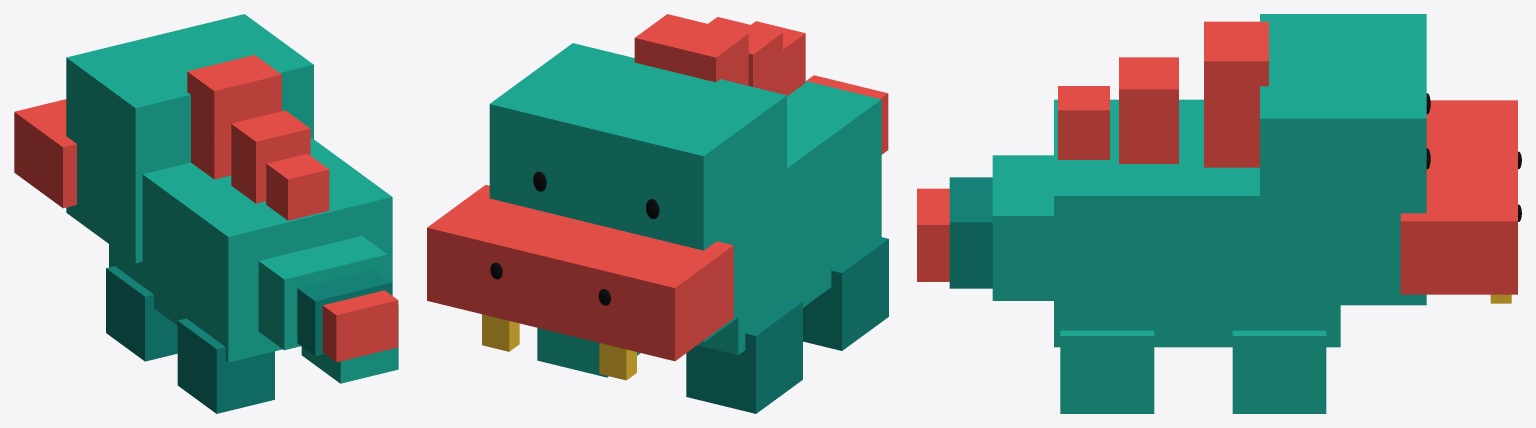
Rendered from Blockosaur_Boss.obj.
The picture shows the model from 3 angles, left to right: view 1: azimuth 30°, elevation 25°; view 2: azimuth 150°, elevation 25°; view 3: azimuth 270°, elevation 25°; orthographic projection. The views are drawn at different scales.
Visible parts, largest first — view 1: LongBody, SquareHead, BackBlockFront, TailRoot, LegRearLeft, BroadSnout, BackBlockMiddle, CoralTailTip, LegFrontLeft, BackBlockRear, TailMiddle, LegRearRight; view 2: SquareHead, BroadSnout, LongBody, LegFrontLeft, LegRearLeft, BackBlockFront, BackBlockMiddle, LegFrontRight, BackBlockRear, LowerToothLeft, LowerToothRight, CoralTailTip; view 3: SquareHead, LongBody, BroadSnout, TailRoot, BackBlockFront, LegRearRight, LegFrontRight, BackBlockMiddle, TailMiddle, BackBlockRear, CoralTailTip.
Part boxes in pixels (x1,y1,x2,y2): LongBody: (109,137,392,362); SquareHead: (66,14,313,263); BackBlockFront: (187,55,281,179); TailRoot: (258,236,387,350); LegRearLeft: (177,318,274,413); BroadSnout: (14,99,76,208); BackBlockMiddle: (231,110,310,203); CoralTailTip: (322,290,398,362); LegFrontLeft: (106,266,177,361); BackBlockRear: (266,153,329,220); TailMiddle: (297,269,392,356); LegRearRight: (301,305,398,383); SquareHead: (489,43,786,342); BroadSnout: (427,185,733,361); LongBody: (697,81,881,354); LegFrontLeft: (686,299,802,413); LegRearLeft: (803,236,888,350); BackBlockFront: (634,14,748,85); BackBlockMiddle: (708,17,782,94); LegFrontRight: (537,328,640,377); BackBlockRear: (751,21,805,95); LowerToothLeft: (599,343,636,380); LowerToothRight: (482,314,519,351); CoralTailTip: (806,75,888,154); SquareHead: (1260,14,1426,305); LongBody: (1054,99,1340,347); BroadSnout: (1400,100,1517,294); TailRoot: (992,155,1053,300); BackBlockFront: (1204,21,1268,167); LegRearRight: (1060,330,1154,413); LegFrontRight: (1232,330,1326,413); BackBlockMiddle: (1119,57,1178,163); TailMiddle: (949,177,992,288); BackBlockRear: (1058,86,1109,159); CoralTailTip: (917,188,949,281).
Bounding box in the file's own units: 2.2 × 2.7 × 4.64.
